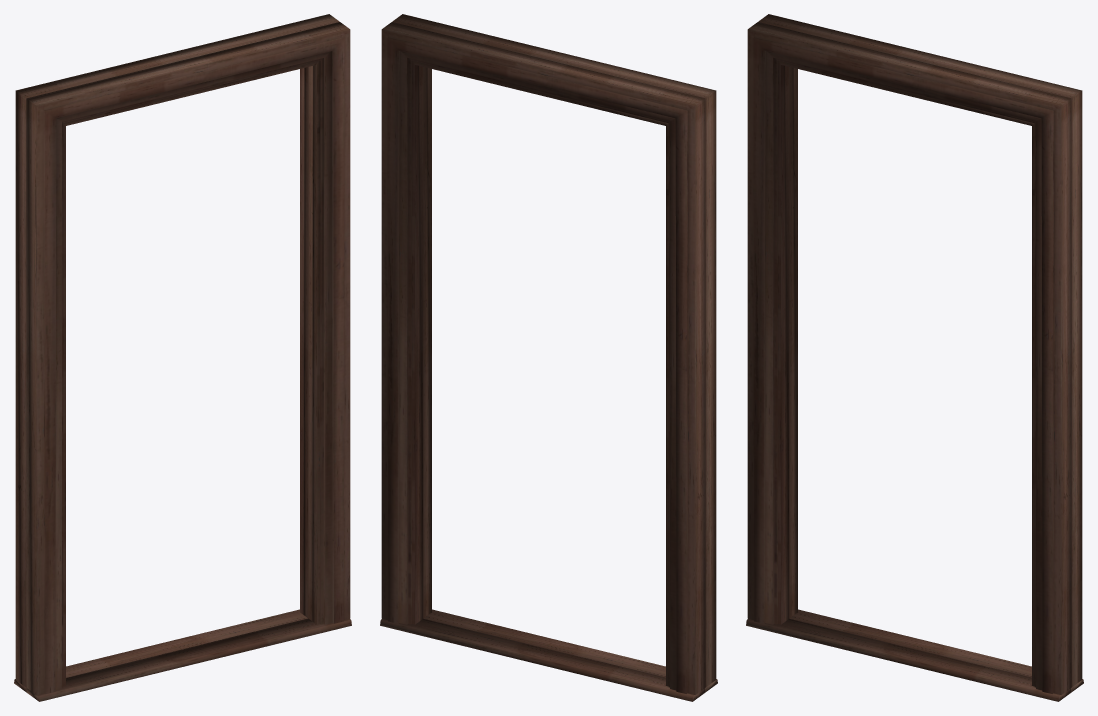
File: small door frame.fbx
3 renders of one model, left to right at view 1: azimuth 30°, elevation 25°; view 2: azimuth 150°, elevation 25°; view 3: azimuth 330°, elevation 25°, orthographic.
Parts seen in each view (by area): view 1: 10.001; view 2: 10.001; view 3: 10.001.
Boxes of the visible parts, box(x1,y1,x2,y2) form: 10.001: box(14, 14, 351, 701); 10.001: box(380, 14, 717, 701); 10.001: box(746, 14, 1083, 701).
Bounding box in the file's own units: 1.31 × 2.37 × 0.1838.
Materials: 1 (1 with a texture image).
